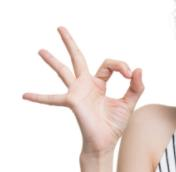left: (19, 23, 146, 143)
